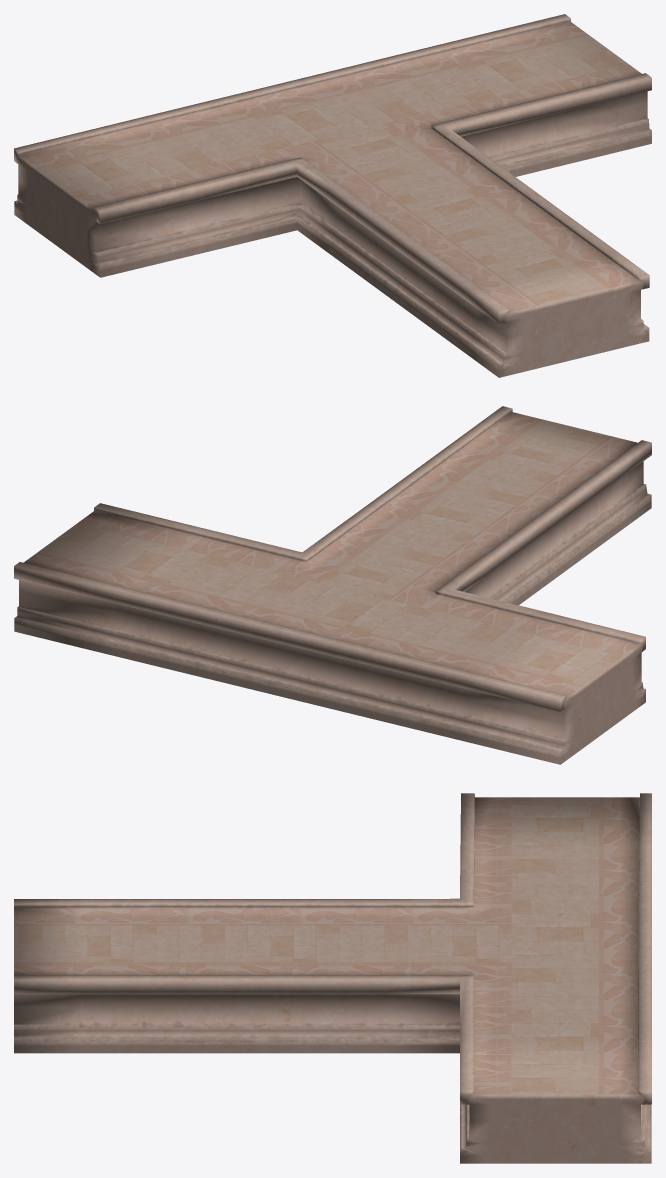
Rendered from t行路段.fbx.
The picture shows the model from 3 angles, top to bottom: view 1: azimuth 30°, elevation 25°; view 2: azimuth 150°, elevation 25°; view 3: azimuth 270°, elevation 25°; orthographic projection. The views are drawn at different scales.
Visible parts, largest first — view 1: 平面.008; view 2: 平面.008; view 3: 平面.008.
Part boxes in pixels (x1=…): 平面.008: x1=14, y1=14, x2=651, y2=377; 平面.008: x1=14, y1=406, x2=651, y2=764; 平面.008: x1=14, y1=793, x2=651, y2=1163.
Bounding box in the file's own units: 1134 × 130 × 1029.
